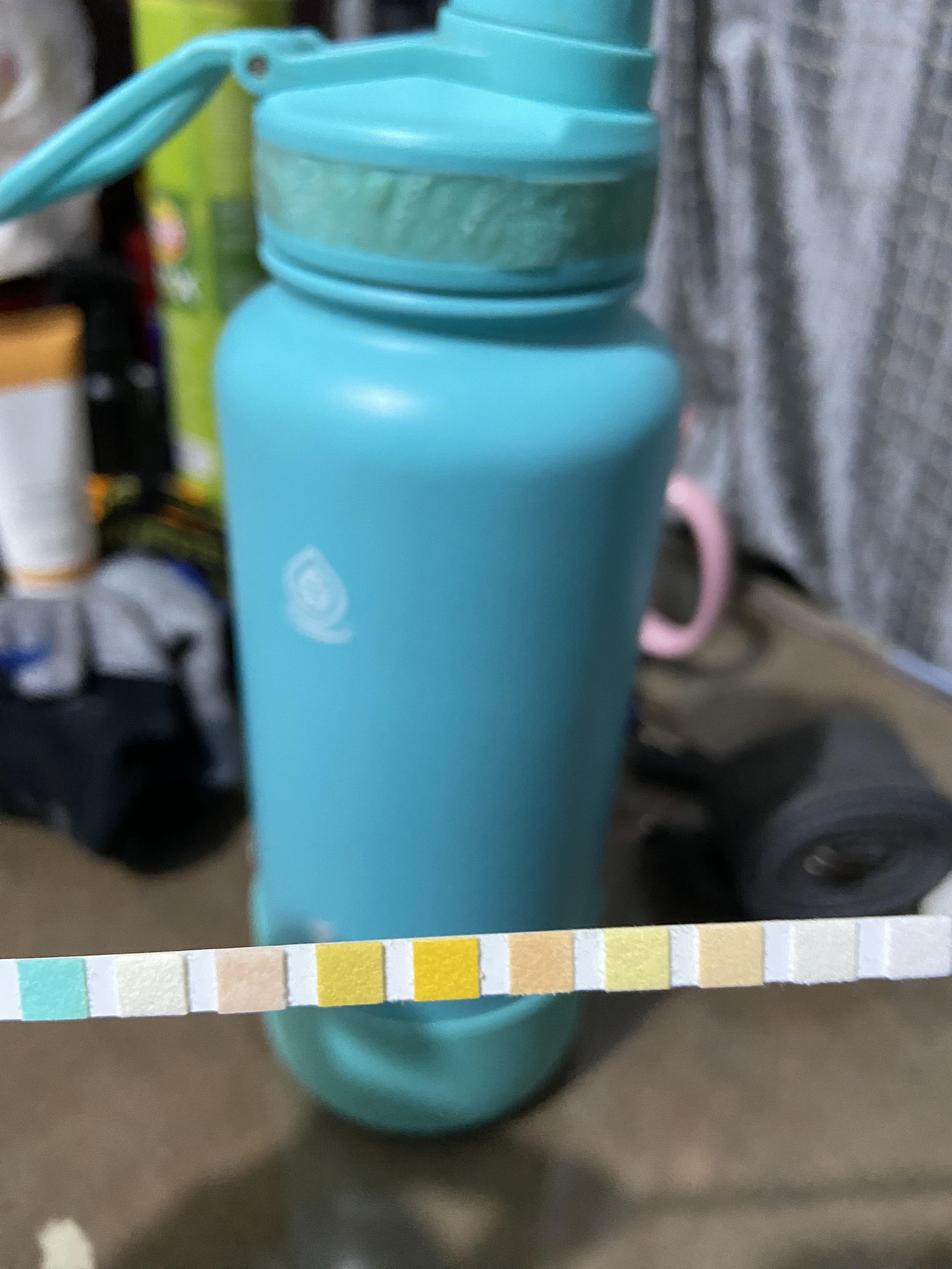Bilirubin: (119, 958, 188, 1015)
Blood: (414, 942, 480, 999)
Glucose: (20, 961, 86, 1019)
Ketone: (217, 952, 285, 1011)
Leukocytes: (889, 919, 952, 975)
Nitrite: (795, 922, 856, 980)
Protein: (605, 929, 670, 989)
SpGravity: (318, 945, 383, 1003)
Urobilinogen: (699, 927, 763, 986)
pH: (510, 934, 573, 993)
strip: (2, 917, 952, 1023)
